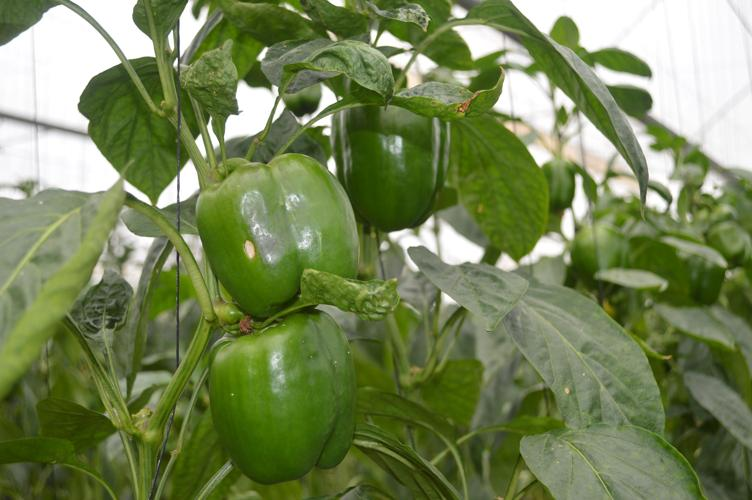BellPepper: (196, 323, 377, 477), (206, 150, 371, 315), (330, 81, 455, 239), (531, 148, 587, 217), (573, 218, 628, 287)
